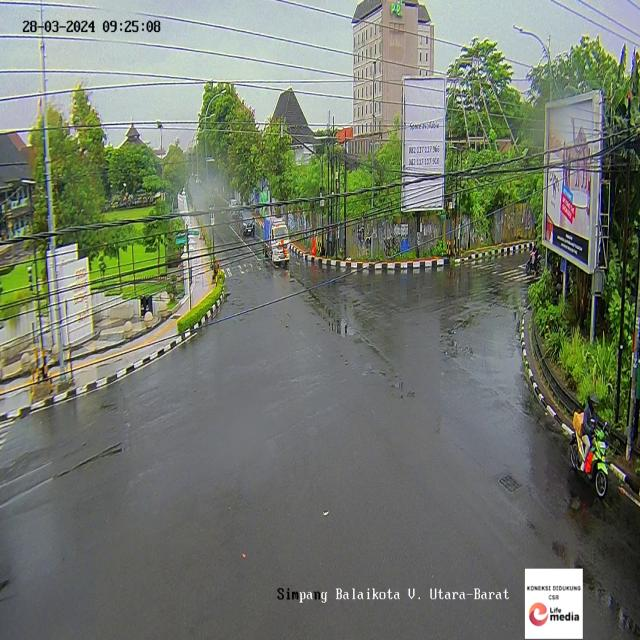car: (238, 208, 255, 238), (228, 196, 238, 214)
motorcycle: (569, 395, 608, 496), (525, 237, 541, 274)
truck: (263, 216, 291, 267)
